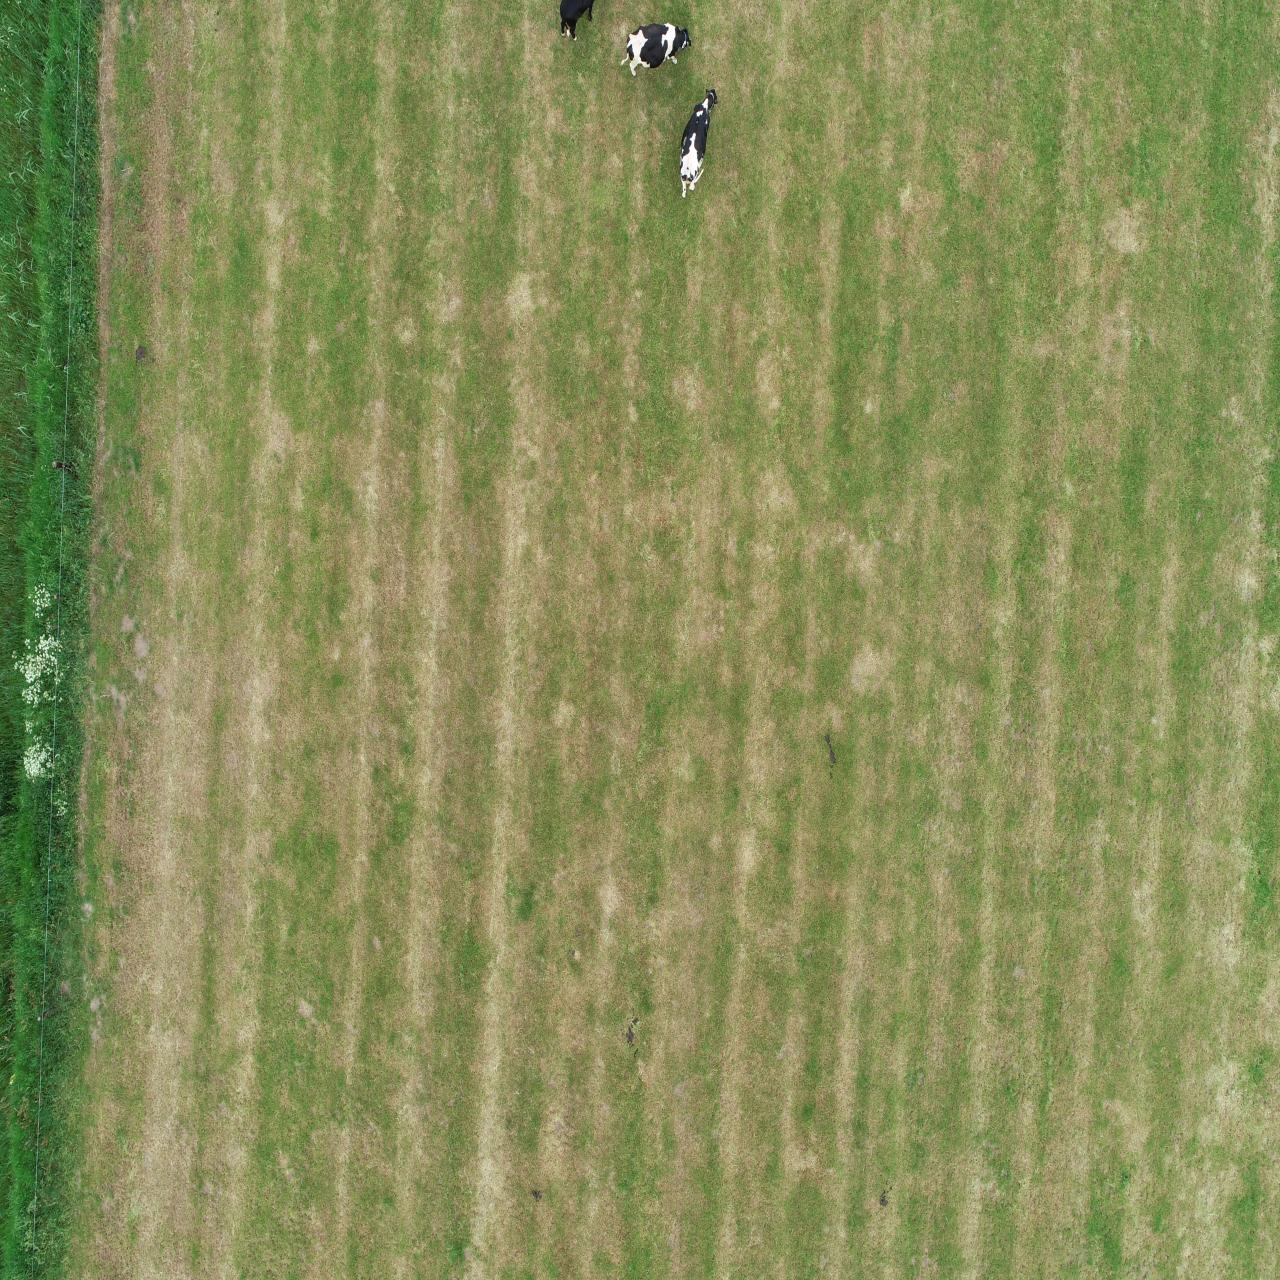cow: (680, 88, 720, 198), (620, 22, 692, 76)
